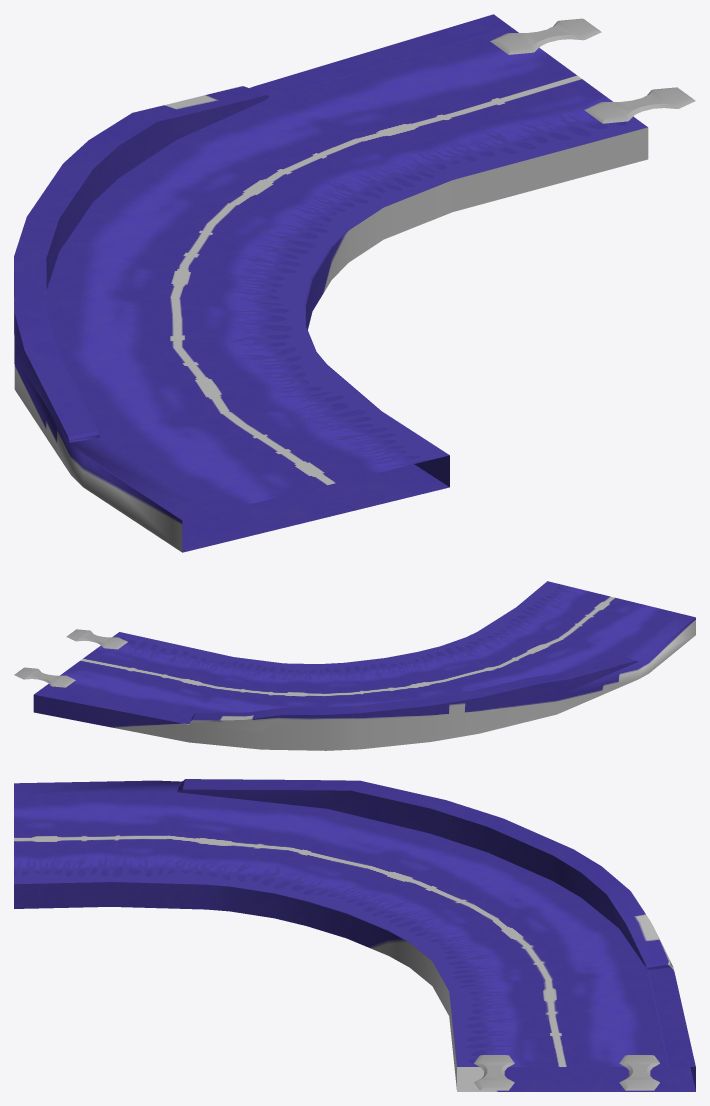
File: PV_TSCurveLarge.fbx
3 views of the same model, one above another, from view 1: azimuth 30°, elevation 25°; view 2: azimuth 150°, elevation 25°; view 3: azimuth 270°, elevation 25° (orthographic). The views are drawn at different scales.
Visible parts, largest first — view 1: scale12, clip2; view 2: scale12, clip2; view 3: scale12, clip2.
Part boxes in pixels (x1,y1,x2,y2): scale12: (14, 14, 648, 552); clip2: (490, 18, 695, 123); scale12: (33, 581, 695, 750); clip2: (14, 629, 127, 687); scale12: (14, 779, 695, 1091); clip2: (474, 1055, 659, 1090).
Bounding box in the file's own units: 7311 × 554 × 6792.
